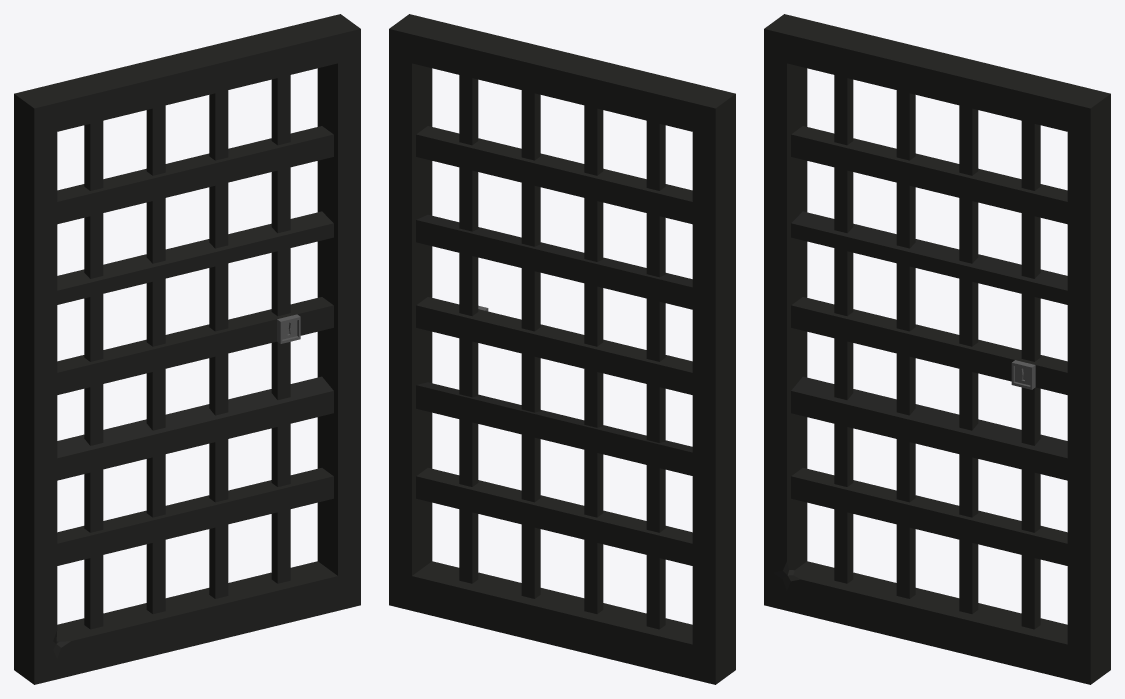
Rendered from Door_06.fbx.
3 views of the same model, side by side, from view 1: azimuth 30°, elevation 25°; view 2: azimuth 150°, elevation 25°; view 3: azimuth 330°, elevation 25° (orthographic).
Visible parts, largest first — view 1: Door_06; view 2: Door_06; view 3: Door_06.
Part boxes in pixels (x1,y1,x2,y2): Door_06: (14,14,360,684); Door_06: (389,14,735,684); Door_06: (764,14,1110,684).
Size of the model in its own units: 121 by 204 by 13.01.
